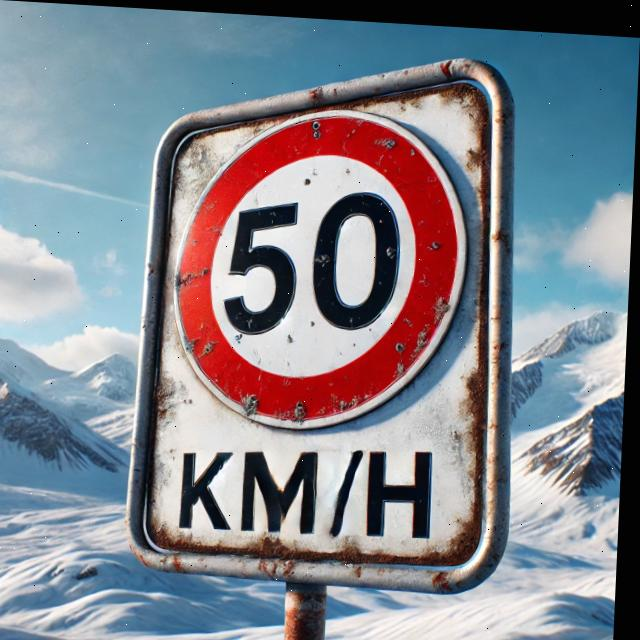Speed limit 50: (171, 96, 477, 435)
